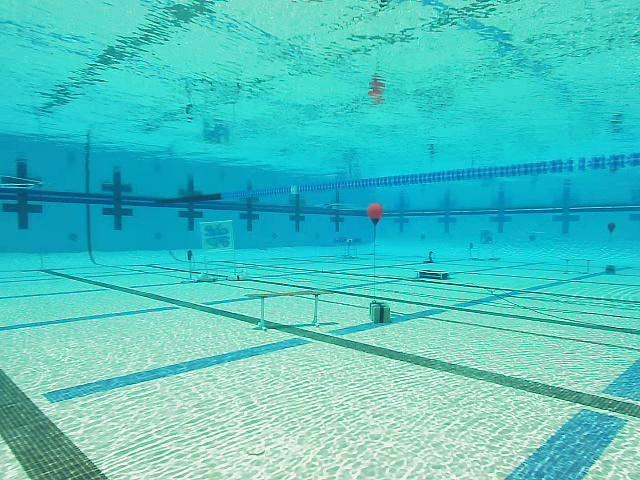buoy: (368, 204, 384, 226)
torpedo: (200, 219, 234, 254)
